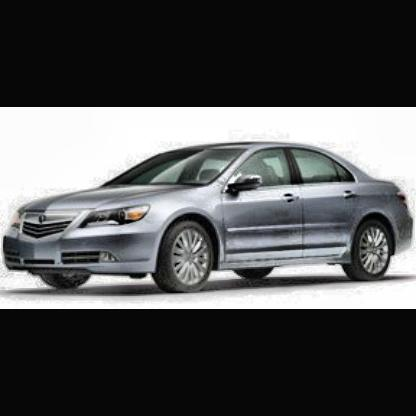Acura RL Sedan 2012: (4, 142, 416, 293)
